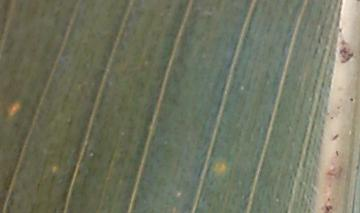tarspot: (348, 95, 355, 104)
